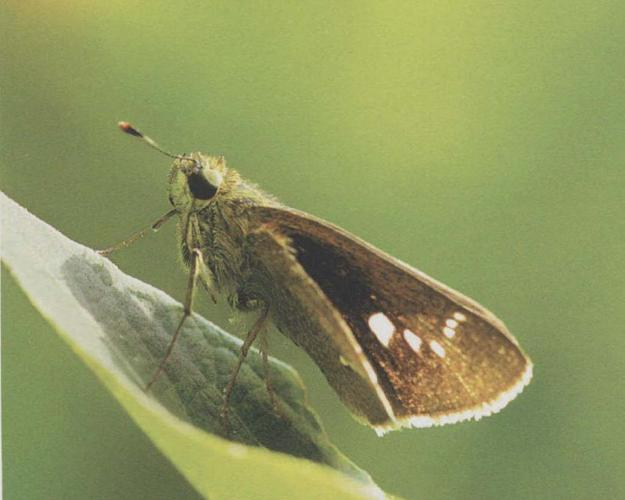Hesperiidae: (96, 117, 542, 435)
